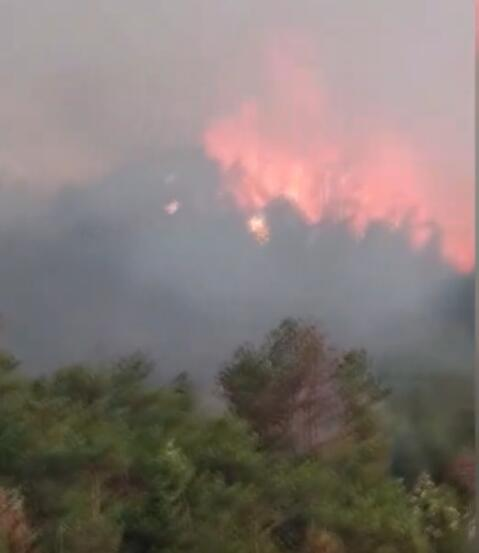fire: (194, 45, 470, 269)
yanwu: (1, 1, 473, 369)
